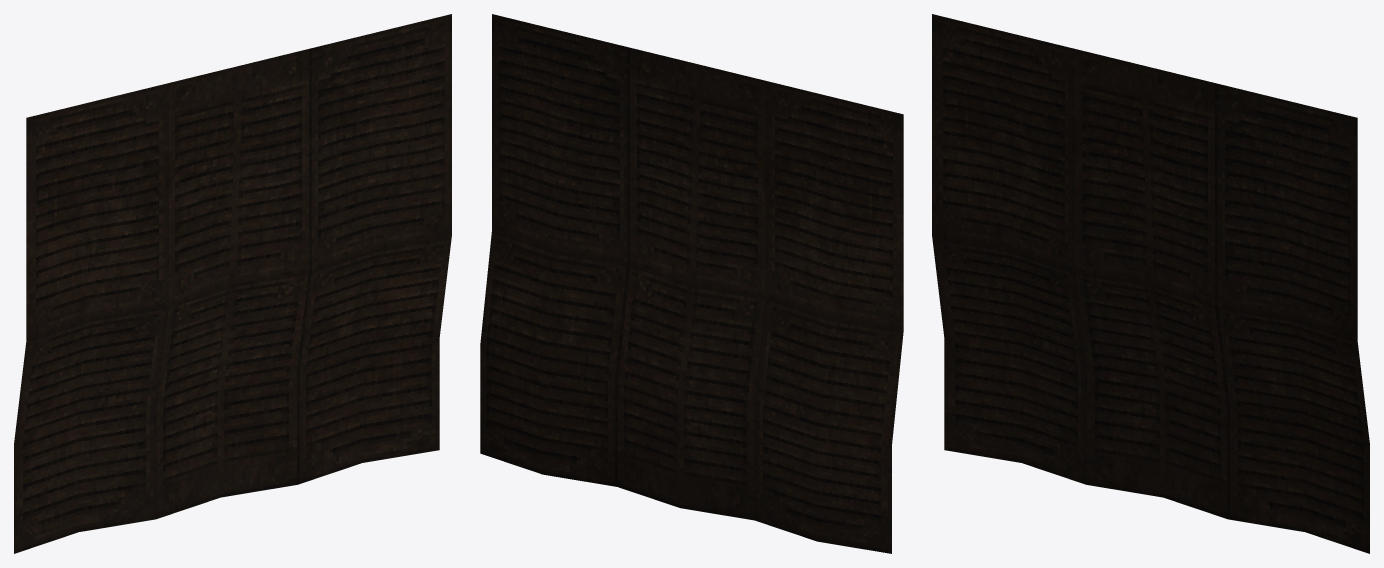
The model's file is wall_6.glb.
3 renders of one model, left to right at view 1: azimuth 30°, elevation 25°; view 2: azimuth 150°, elevation 25°; view 3: azimuth 330°, elevation 25°, orthographic. The views are drawn at different scales.
Visible parts, largest first — view 1: wall_6; view 2: wall_6; view 3: wall_6.
Part boxes in pixels (x1,y1,x2,y2): wall_6: [14, 14, 451, 553]; wall_6: [480, 14, 903, 553]; wall_6: [932, 14, 1369, 553].
Size of the model in its own units: 2 by 2 by 0.15.
Materials: 1 (1 with a texture image).
